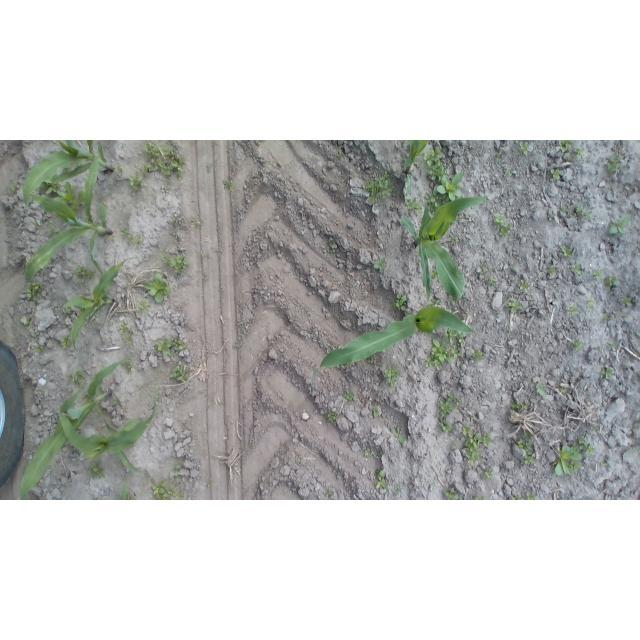Maize: (17, 359, 141, 500), (307, 305, 484, 388), (25, 157, 113, 279), (399, 193, 487, 300), (22, 140, 115, 230), (58, 388, 156, 472), (63, 256, 138, 358), (402, 140, 429, 194), (116, 476, 129, 500)
Weeds: (142, 143, 185, 180), (426, 339, 463, 371), (364, 171, 395, 205), (418, 147, 448, 182), (54, 182, 85, 215), (552, 442, 581, 476), (143, 273, 172, 304), (436, 173, 462, 202), (464, 433, 481, 468), (162, 254, 190, 274), (609, 215, 632, 236), (26, 281, 44, 302), (34, 181, 59, 196), (444, 328, 466, 345), (170, 365, 189, 384), (75, 265, 94, 284), (425, 191, 441, 213), (155, 338, 174, 356), (152, 480, 168, 500), (579, 435, 595, 455), (385, 365, 399, 387), (89, 460, 106, 478), (72, 368, 86, 389), (405, 196, 422, 213), (574, 203, 592, 219), (375, 470, 389, 490), (45, 221, 65, 235), (516, 439, 533, 455), (391, 427, 406, 444), (439, 399, 453, 417), (607, 156, 620, 175), (393, 294, 407, 311), (128, 173, 142, 190), (506, 299, 523, 312), (605, 276, 619, 291), (439, 417, 453, 432), (558, 140, 574, 153), (174, 337, 188, 351), (515, 142, 529, 156), (444, 488, 459, 500), (470, 351, 486, 362), (374, 258, 387, 270), (119, 322, 132, 334), (223, 180, 236, 192), (602, 367, 614, 380), (448, 394, 460, 407), (92, 405, 106, 416), (62, 335, 73, 349), (480, 433, 491, 447), (500, 224, 511, 238), (588, 298, 597, 314), (536, 383, 547, 396), (126, 235, 140, 245), (62, 163, 76, 173), (139, 301, 150, 313), (571, 263, 582, 275), (493, 215, 505, 226), (521, 456, 535, 465), (344, 390, 355, 401), (326, 411, 337, 422), (191, 216, 202, 227), (327, 238, 335, 253), (548, 169, 560, 179), (510, 401, 522, 411), (561, 247, 571, 258), (483, 468, 493, 479), (520, 279, 529, 291), (115, 163, 123, 176), (123, 334, 133, 344), (574, 147, 584, 157), (572, 340, 582, 350), (593, 271, 604, 280), (568, 306, 579, 315), (24, 315, 31, 329), (428, 299, 440, 307), (168, 486, 176, 498), (494, 150, 502, 162), (430, 269, 439, 279), (373, 405, 380, 417), (8, 183, 17, 192), (623, 297, 632, 306), (524, 431, 533, 440), (462, 426, 471, 435), (366, 353, 374, 363), (548, 265, 556, 275), (559, 205, 570, 212), (325, 490, 333, 499), (525, 492, 534, 500), (336, 364, 350, 369), (174, 467, 180, 478), (81, 392, 89, 400), (488, 279, 497, 286), (176, 493, 185, 500), (605, 313, 612, 322), (452, 236, 459, 244), (364, 450, 372, 457), (512, 495, 523, 500), (125, 364, 131, 373), (34, 346, 43, 352), (337, 150, 343, 159), (65, 307, 72, 314), (561, 387, 568, 394), (120, 228, 128, 234), (103, 421, 109, 429), (610, 341, 618, 347), (395, 485, 402, 491), (505, 170, 512, 176), (547, 214, 553, 221), (106, 236, 114, 241), (482, 264, 487, 272), (66, 377, 72, 383), (91, 321, 97, 327), (598, 346, 604, 352), (200, 253, 209, 257), (202, 274, 208, 280), (476, 496, 485, 500), (297, 455, 302, 462), (451, 442, 458, 447), (400, 140, 408, 144), (126, 493, 131, 499), (79, 308, 85, 313), (616, 311, 622, 316), (601, 462, 607, 467), (114, 398, 118, 405), (377, 453, 382, 458), (68, 257, 73, 262), (566, 156, 571, 161), (416, 249, 420, 255), (129, 445, 136, 448), (208, 482, 213, 486), (525, 404, 529, 409), (173, 217, 179, 220), (41, 389, 44, 395), (408, 312, 412, 316), (164, 185, 168, 189), (69, 388, 73, 392), (92, 497, 97, 500), (100, 195, 105, 198), (234, 344, 237, 349)
